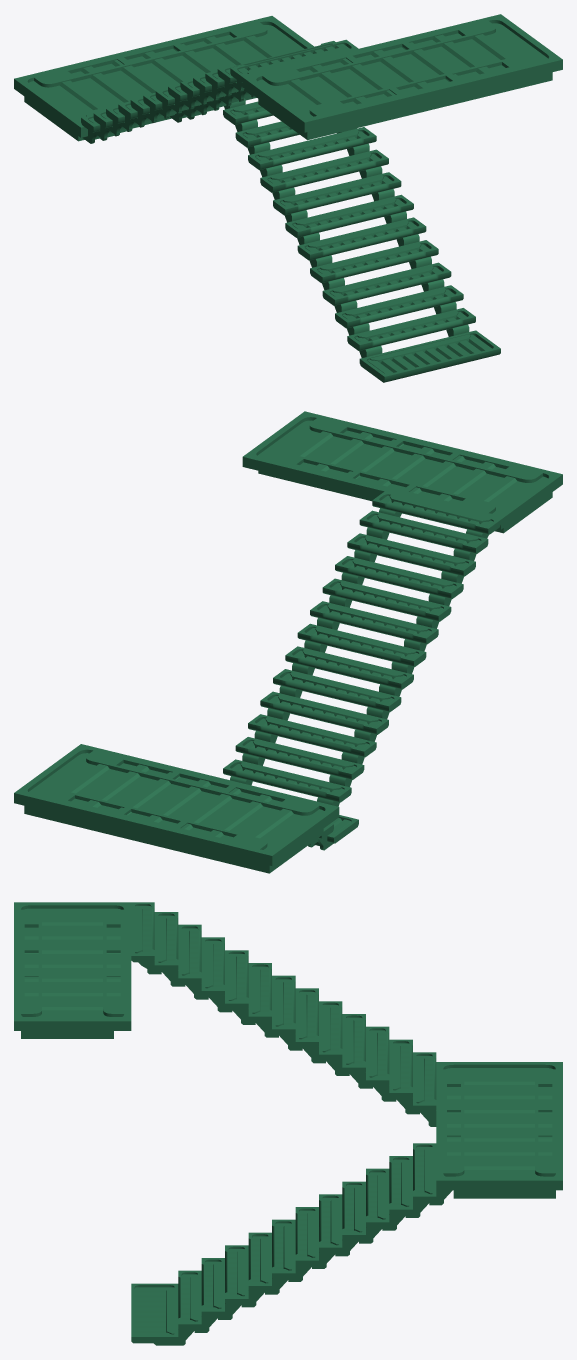
File: UTypeStair_A.FBX
3 renders of one model, top to bottom at view 1: azimuth 30°, elevation 25°; view 2: azimuth 150°, elevation 25°; view 3: azimuth 270°, elevation 25°, orthographic. The views are drawn at different scales.
Parts seen in each view (by area): view 1: UTypeStair_A; view 2: UTypeStair_A; view 3: UTypeStair_A.
Boxes of the visible parts, x1,y1,x2,y2 form: UTypeStair_A: (14,14,562,382); UTypeStair_A: (14,411,562,873); UTypeStair_A: (14,902,562,1345).
Size of the model in its own units: 400 by 513 by 780.
